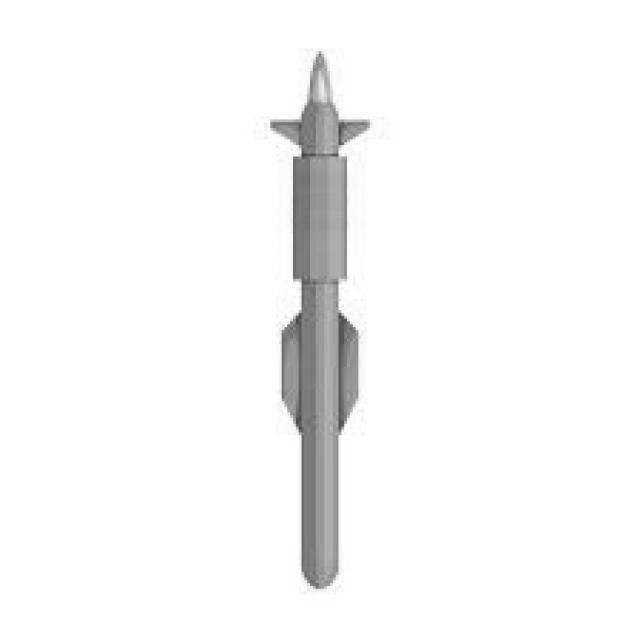Missile: (287, 44, 357, 620)
